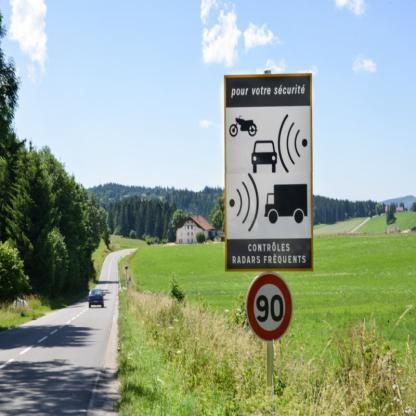Speed Limit 90: (250, 276, 292, 337)
